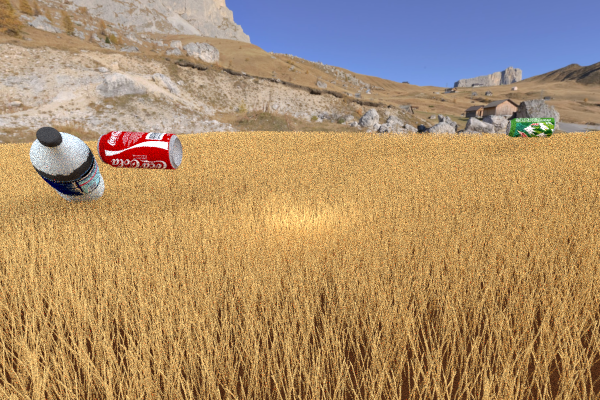Plastic Bottle: (29, 126, 104, 204), (97, 130, 182, 169), (505, 117, 556, 137)
